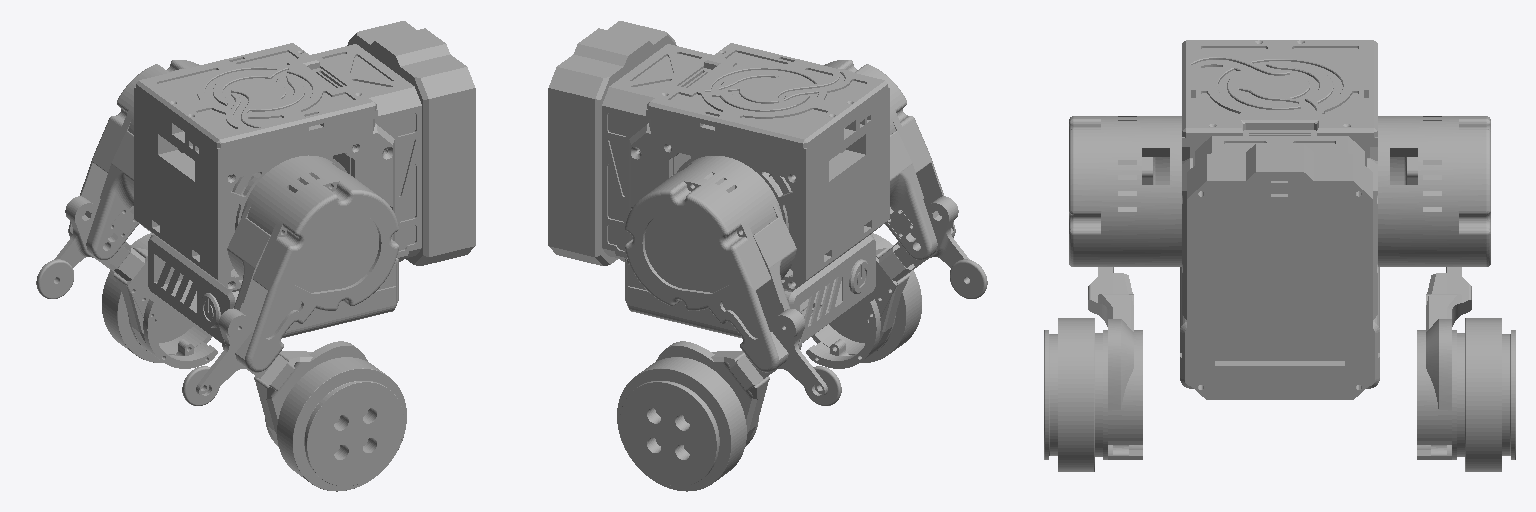
The robot description file, URDF, robot "bubble":
<?xml version="1.0" ?>
<robot name="bubble">

<!-- ==================== Materials ==================== -->
<material name="silver">
  <color rgba="0.700 0.700 0.700 1.000"/>
</material>

<!-- ==================== Links ==================== -->
<link name="base_link">
  <inertial>
    <origin xyz="0.005 -0.050238963083457974 -0.03448810722272746" rpy="0 0 0"/>
    <mass value="0.7"/>
    <inertia ixx="0.001163" iyy="0.002030" izz="0.001728" ixy="7.35e-06" iyz="4.55e-06" ixz="7.63e-05"/>
  </inertial>
  <visual>
    <origin xyz="0 0 0" rpy="0 0 0"/>
    <geometry>
      <mesh filename="../meshes/base_link.stl" scale="0.001 0.001 0.001"/>
    </geometry>
    <material name="silver"/>
  </visual>
  <collision>
    <origin xyz="0 0 0" rpy="0 0 0"/>
    <geometry>
      <mesh filename="../meshes/base_link.stl" scale="0.001 0.001 0.001"/>
    </geometry>
  </collision>
</link>

<link name="left_thigh_link_1">
  <inertial>
    <origin xyz="-0.007841796871332999 0.02165217168425637 -0.0059609659700569015" rpy="0 0 0"/>
    <mass value="0.21"/>
    <inertia ixx="0.000139" iyy="0.000200" izz="0.000153" ixy="7.56e-06" iyz="9.17e-06" ixz="-3.42e-05"/>
  </inertial>
  <visual>
    <origin xyz="0.010958 0.009778 0.036464" rpy="0 0 0"/>
    <geometry>
      <mesh filename="../meshes/left_thigh_link_1.stl" scale="0.001 0.001 0.001"/>
    </geometry>
    <material name="silver"/>
  </visual>
  <collision>
    <origin xyz="0.010958 0.009778 0.036464" rpy="0 0 0"/>
    <geometry>
      <mesh filename="../meshes/left_thigh_link_1.stl" scale="0.001 0.001 0.001"/>
    </geometry>
  </collision>
</link>

<link name="right_thigh_link_1">
  <inertial>
    <origin xyz="-0.007841714275215685 -0.02165293135789087 -0.005960949248683539" rpy="0 0 0"/>
    <mass value="0.21"/>
    <inertia ixx="0.000139" iyy="0.000200" izz="0.000153" ixy="-7.56e-06" iyz="-9.17e-06" ixz="-3.42e-05"/>
  </inertial>
  <visual>
    <origin xyz="0.010958 0.089778 0.036464" rpy="0 0 0"/>
    <geometry>
      <mesh filename="../meshes/right_thigh_link_1.stl" scale="0.001 0.001 0.001"/>
    </geometry>
    <material name="silver"/>
  </visual>
  <collision>
    <origin xyz="0.010958 0.089778 0.036464" rpy="0 0 0"/>
    <geometry>
      <mesh filename="../meshes/right_thigh_link_1.stl" scale="0.001 0.001 0.001"/>
    </geometry>
  </collision>
</link>

<link name="left_shank_link_1">
  <inertial>
    <origin xyz="0.02726078501833793 -0.001726636765033391 -0.02361759047971776" rpy="0 0 0"/>
    <mass value="0.08"/>
    <inertia ixx="3.9e-05" iyy="8.3e-05" izz="4.85e-05" ixy="5.8e-06" iyz="-5.3e-06" ixz="2.28e-05"/>
  </inertial>
  <visual>
    <origin xyz="0.05692 -0.018722 0.082426" rpy="0 0 0"/>
    <geometry>
      <mesh filename="../meshes/left_shank_link_1.stl" scale="0.001 0.001 0.001"/>
    </geometry>
    <material name="silver"/>
  </visual>
  <collision>
    <origin xyz="0.05692 -0.018722 0.082426" rpy="0 0 0"/>
    <geometry>
      <mesh filename="../meshes/left_shank_link_1.stl" scale="0.001 0.001 0.001"/>
    </geometry>
  </collision>
</link>

<link name="right_shank_link_2">
  <inertial>
    <origin xyz="0.02726078501833474 0.001725902474211366 -0.023617590479721395" rpy="0 0 0"/>
    <mass value="0.08"/>
    <inertia ixx="3.9e-05" iyy="8.3e-05" izz="4.85e-05" ixy="-5.8e-06" iyz="5.3e-06" ixz="2.28e-05"/>
  </inertial>
  <visual>
    <origin xyz="0.05692 0.118278 0.082426" rpy="0 0 0"/>
    <geometry>
      <mesh filename="../meshes/right_shank_link_2.stl" scale="0.001 0.001 0.001"/>
    </geometry>
    <material name="silver"/>
  </visual>
  <collision>
    <origin xyz="0.05692 0.118278 0.082426" rpy="0 0 0"/>
    <geometry>
      <mesh filename="../meshes/right_shank_link_2.stl" scale="0.001 0.001 0.001"/>
    </geometry>
  </collision>
</link>

<link name="left_drive_wheel_link">
  <inertial>
    <origin xyz="-3.202629778927685e-07 0.016534953536789413 5.327676680377813e-08" rpy="0 0 0"/>
    <mass value="0.2"/>
    <inertia ixx="6.09e-05" iyy="1.088e-04" izz="6.09e-05" ixy="-0.0" iyz="-0.0" ixz="-0.0"/>
  </inertial>
  <visual>
    <origin xyz="0.010958 -0.020722 0.128388" rpy="0 0 0"/>
    <geometry>
      <mesh filename="../meshes/left_wheel_link_2.stl" scale="0.001 0.001 0.001"/>
    </geometry>
    <material name="silver"/>
  </visual>
  <collision>
    <origin xyz="0.0 0.013 0.0" rpy="1.5708 0 0"/>
    <geometry>
      <cylinder radius="0.0315" length="0.026"/>
    </geometry>
  </collision>
</link>

<link name="right_drive_wheel_link">
  <inertial>
    <origin xyz="-3.202629839157284e-07 -0.016535687827611528 5.3276764305776325e-08" rpy="0 0 0"/>
    <mass value="0.2"/>
    <inertia ixx="6.09e-05" iyy="1.088e-04" izz="6.09e-05" ixy="-0.0" iyz="0.0" ixz="0.0"/>
  </inertial>
  <visual>
    <origin xyz="0.010958 0.120278 0.128388" rpy="0 0 0"/>
    <geometry>
      <mesh filename="../meshes/right_wheel_link_1.stl" scale="0.001 0.001 0.001"/>
    </geometry>
    <material name="silver"/>
  </visual>
  <collision>
    <origin xyz="0.0 -0.013 0.0" rpy="1.5708 0 0"/>
    <geometry>
      <cylinder radius="0.0315" length="0.026"/>
    </geometry>
  </collision>
</link>

<link name="left_idler_wheel_link_2">
  <inertial>
    <origin xyz="-1.003841612612355e-07 -0.0015003671454090033 1.4410163112765773e-07" rpy="0 0 0"/>
    <mass value="0.006977667939475659"/>
    <inertia ixx="1e-06" iyy="1e-06" izz="1e-06" ixy="0.0" iyz="0.0" ixz="0.0"/>
  </inertial>
  <visual>
    <origin xyz="0.08032 -0.021222 0.097803" rpy="0 0 0"/>
    <geometry>
      <mesh filename="../meshes/left_idler_wheel_link_2.stl" scale="0.001 0.001 0.001"/>
    </geometry>
    <material name="silver"/>
  </visual>
  <collision>
    <origin xyz="0.08032 -0.021222 0.097803" rpy="0 0 0"/>
    <geometry>
      <mesh filename="../meshes/left_idler_wheel_link_2.stl" scale="0.001 0.001 0.001"/>
    </geometry>
  </collision>
</link>

<link name="right_idler_wheel_link_1">
  <inertial>
    <origin xyz="-1.0038416357882607e-07 0.0014996328545866106 1.4410162677003235e-07" rpy="0 0 0"/>
    <mass value="0.006977667939475657"/>
    <inertia ixx="1e-06" iyy="1e-06" izz="1e-06" ixy="0.0" iyz="0.0" ixz="0.0"/>
  </inertial>
  <visual>
    <origin xyz="0.08032 0.120778 0.097803" rpy="0 0 0"/>
    <geometry>
      <mesh filename="../meshes/right_idler_wheel_link_1.stl" scale="0.001 0.001 0.001"/>
    </geometry>
    <material name="silver"/>
  </visual>
  <collision>
    <origin xyz="0.08032 0.120778 0.097803" rpy="0 0 0"/>
    <geometry>
      <mesh filename="../meshes/right_idler_wheel_link_1.stl" scale="0.001 0.001 0.001"/>
    </geometry>
  </collision>
</link>

<!-- ==================== Joints ==================== -->

<!-- Left leg chain: base -> thigh -> shank -> wheel / idler_wheel -->
<joint name="left_thigh_joint" type="revolute">
  <origin xyz="-0.010958 -0.009778 -0.036464" rpy="0 0 0"/>
  <parent link="base_link"/>
  <child link="left_thigh_link_1"/>
  <axis xyz="0.0 1.0 0.0"/>
  <dynamics damping="0.02" friction="0.05"/>
  <limit lower="-0.8" upper="1.2" effort="0.5" velocity="100"/>
</joint>

<joint name="left_knee_joint" type="revolute">
  <origin xyz="-0.045962 0.0285 -0.045962" rpy="0 0 0"/>
  <parent link="left_thigh_link_1"/>
  <child link="left_shank_link_1"/>
  <axis xyz="0.0 1.0 0.0"/>
  <dynamics damping="0.02" friction="0.05"/>
  <limit upper="0.488692" lower="-0.436332" effort="0.5" velocity="100"/>
</joint>

<joint name="left_wheel_joint" type="revolute">
  <origin xyz="0.045962 0.002 -0.045962" rpy="0 0 0"/>
  <parent link="left_shank_link_1"/>
  <child link="left_drive_wheel_link"/>
  <axis xyz="0.0 -1.0 0.0"/>
  <dynamics damping="0.01" friction="0.0"/>
  <limit effort="0.5" lower="-10000" upper="10000" velocity="30.0"/>
</joint>

<joint name="left_idler_wheel_joint" type="fixed">
  <origin xyz="-0.0234 0.0025 -0.015377" rpy="0 0 0"/>
  <parent link="left_shank_link_1"/>
  <child link="left_idler_wheel_link_2"/>
</joint>

<!-- Right leg chain: base -> thigh -> shank -> wheel / idler_wheel -->
<joint name="right_thigh_joint" type="revolute">
  <origin xyz="-0.010958 -0.089778 -0.036464" rpy="0 0 0"/>
  <parent link="base_link"/>
  <child link="right_thigh_link_1"/>
  <axis xyz="0.0 -1.0 0.0"/>
  <dynamics damping="0.02" friction="0.05"/>
  <limit lower="-1.2" upper="0.8" effort="0.5" velocity="100"/>
</joint>

<joint name="right_knee_joint" type="revolute">
  <origin xyz="-0.045962 -0.0285 -0.045962" rpy="0 0 0"/>
  <parent link="right_thigh_link_1"/>
  <child link="right_shank_link_2"/>
  <axis xyz="0.0 -1.0 0.0"/>
  <dynamics damping="0.02" friction="0.05"/>
  <limit lower="-0.488692" upper="0.436332" effort="0.5" velocity="100"/>
</joint>

<joint name="right_wheel_joint" type="revolute">
  <origin xyz="0.045962 -0.002 -0.045962" rpy="0 0 0"/>
  <parent link="right_shank_link_2"/>
  <child link="right_drive_wheel_link"/>
  <axis xyz="0.0 -1.0 0.0"/>
  <dynamics damping="0.01" friction="0.0"/>
  <limit effort="0.5" lower="-10000" upper="10000" velocity="30.0"/>
</joint>

<joint name="right_idler_wheel_joint" type="fixed">
  <origin xyz="-0.0234 -0.0025 -0.015377" rpy="0 0 0"/>
  <parent link="right_shank_link_2"/>
  <child link="right_idler_wheel_link_1"/>
</joint>

</robot>

--- Facts derived from the render (not from the file) ---
The picture shows the robot from 3 angles, left to right: view 1: azimuth 30°, elevation 25°; view 2: azimuth 150°, elevation 25°; view 3: azimuth 270°, elevation 25°; orthographic projection.
Model bubble with 9 links and 8 joints (6 revolute, 2 fixed), rooted at base_link, posed every joint at zero.
Links seen in each view (by area): view 1: base_link, right_thigh_link_1, right_drive_wheel_link, left_thigh_link_1, left_shank_link_1, right_shank_link_2, left_drive_wheel_link, left_idler_wheel_link_2, right_idler_wheel_link_1; view 2: base_link, left_thigh_link_1, left_drive_wheel_link, right_thigh_link_1, right_shank_link_2, left_shank_link_1, right_drive_wheel_link, right_idler_wheel_link_1, left_idler_wheel_link_2; view 3: base_link, left_thigh_link_1, right_thigh_link_1, left_drive_wheel_link, right_drive_wheel_link, left_shank_link_1, right_shank_link_2.
Link boxes in pixels (bbox=[...]): base_link: bbox=[134, 21, 475, 342]; right_thigh_link_1: bbox=[222, 155, 398, 372]; right_drive_wheel_link: bbox=[277, 357, 406, 491]; left_thigh_link_1: bbox=[68, 60, 250, 259]; left_shank_link_1: bbox=[54, 196, 217, 368]; right_shank_link_2: bbox=[196, 308, 367, 446]; left_drive_wheel_link: bbox=[102, 233, 211, 362]; left_idler_wheel_link_2: bbox=[36, 259, 73, 298]; right_idler_wheel_link_1: bbox=[182, 366, 219, 405]; base_link: bbox=[548, 21, 889, 342]; left_thigh_link_1: bbox=[625, 156, 801, 372]; left_drive_wheel_link: bbox=[617, 357, 746, 491]; right_thigh_link_1: bbox=[773, 60, 955, 259]; right_shank_link_2: bbox=[806, 196, 969, 368]; left_shank_link_1: bbox=[656, 309, 827, 446]; right_drive_wheel_link: bbox=[801, 233, 921, 362]; right_idler_wheel_link_1: bbox=[950, 259, 987, 298]; left_idler_wheel_link_2: bbox=[804, 366, 841, 405]; base_link: bbox=[1180, 40, 1379, 399]; left_thigh_link_1: bbox=[1378, 116, 1490, 266]; right_thigh_link_1: bbox=[1069, 116, 1181, 266]; left_drive_wheel_link: bbox=[1452, 318, 1515, 471]; right_drive_wheel_link: bbox=[1044, 318, 1107, 471]; left_shank_link_1: bbox=[1417, 267, 1471, 459]; right_shank_link_2: bbox=[1088, 267, 1142, 459].
Size in the robot's own frame: 0.1791 by 0.193 by 0.1787 metres.
9 mesh visuals loaded from 9 distinct referenced files (9 binary STL).
